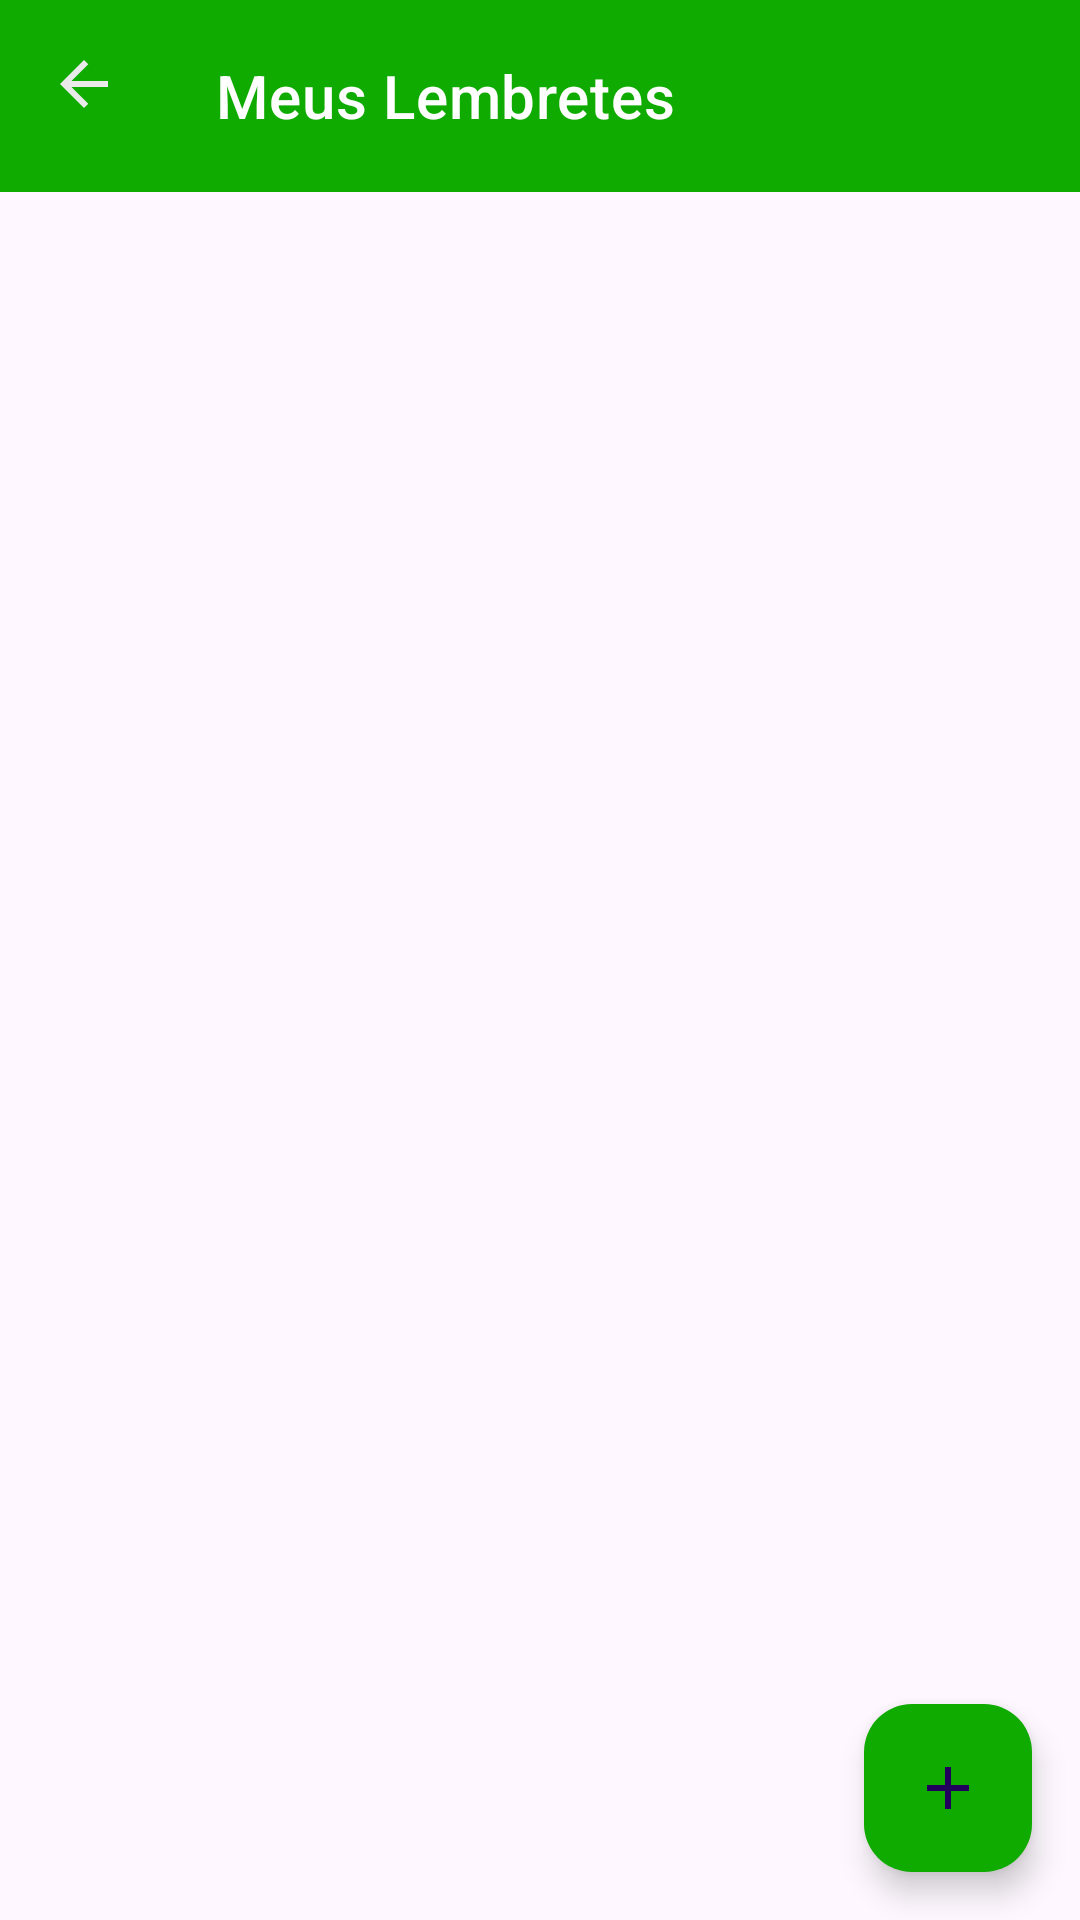

Screen size 1080 × 1920. Icon name, then its box in pixels as {"x1": x1, "y1": y1, "x2": x2, "y2": y2}:
Adicionar novo lembrete: {"x1": 864, "y1": 1704, "x2": 1032, "y2": 1872}
